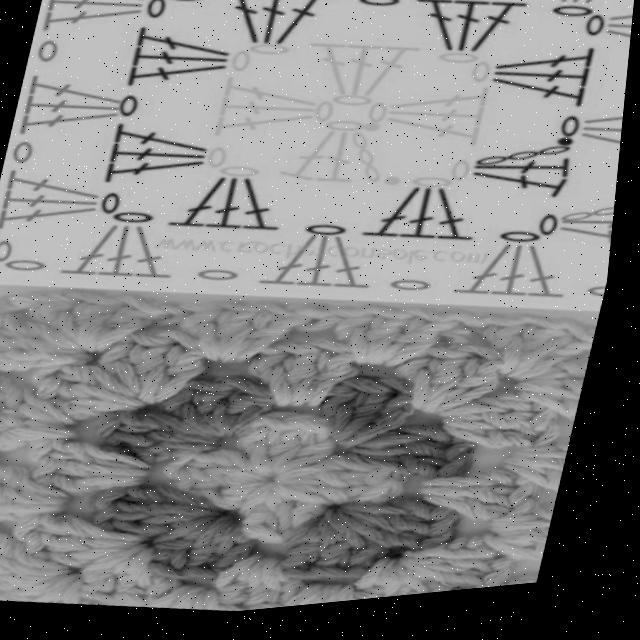ch: (446, 317, 506, 340), (301, 310, 350, 335), (161, 304, 194, 330), (0, 296, 41, 314)
dc: (347, 514, 470, 559), (348, 385, 423, 455), (242, 306, 318, 367), (441, 355, 510, 422), (0, 376, 86, 429), (160, 520, 233, 582), (525, 331, 604, 388), (335, 515, 399, 584), (103, 293, 175, 354), (45, 371, 153, 411), (22, 514, 158, 544), (353, 513, 471, 547), (0, 524, 81, 573), (394, 317, 461, 376), (59, 366, 155, 407), (93, 548, 160, 605), (40, 440, 159, 472), (342, 383, 398, 449), (164, 335, 214, 406), (277, 486, 413, 512), (134, 333, 181, 408), (517, 327, 576, 386), (358, 459, 482, 487), (103, 414, 227, 442), (0, 313, 90, 351), (101, 490, 235, 515), (73, 293, 127, 355), (413, 565, 524, 595), (167, 388, 231, 440), (431, 503, 549, 531), (30, 293, 89, 349), (278, 349, 330, 412), (429, 353, 477, 421), (193, 520, 244, 583), (290, 421, 345, 479), (316, 349, 365, 414), (175, 453, 280, 483), (450, 433, 570, 459), (103, 502, 236, 525), (0, 461, 78, 500), (39, 456, 159, 481), (448, 421, 566, 446), (488, 324, 537, 383), (265, 417, 310, 481), (367, 313, 415, 373), (218, 306, 265, 367), (232, 382, 278, 443), (216, 526, 267, 581), (227, 560, 276, 617), (199, 381, 245, 441), (102, 339, 147, 400), (429, 496, 551, 518), (365, 433, 481, 456), (249, 489, 293, 549), (417, 562, 536, 584), (0, 573, 86, 603), (44, 546, 150, 570), (0, 329, 94, 356), (141, 554, 190, 605), (294, 523, 334, 584), (335, 313, 377, 371), (109, 519, 230, 539), (258, 354, 301, 410), (357, 449, 483, 468), (283, 463, 390, 485), (351, 508, 463, 529), (323, 524, 360, 587), (422, 547, 523, 570), (445, 406, 560, 426), (33, 536, 153, 555), (243, 424, 282, 482), (280, 478, 421, 494), (122, 550, 163, 605), (430, 481, 546, 500), (407, 563, 458, 604), (187, 308, 225, 363), (0, 550, 77, 577), (49, 477, 152, 497), (118, 446, 224, 465), (250, 562, 286, 616), (403, 362, 437, 419), (111, 435, 227, 451), (0, 352, 96, 371), (363, 565, 404, 609), (272, 495, 306, 548), (526, 404, 588, 433), (511, 474, 573, 503), (39, 575, 96, 606), (272, 566, 308, 615), (0, 429, 83, 450), (0, 487, 82, 508), (517, 390, 593, 412), (332, 391, 365, 441), (173, 471, 278, 486), (57, 400, 144, 418), (522, 372, 597, 392), (391, 568, 430, 606), (497, 547, 559, 570), (0, 413, 72, 432), (502, 517, 566, 537), (177, 484, 277, 496), (0, 504, 75, 520), (158, 589, 208, 613), (0, 570, 56, 590), (301, 506, 338, 535), (183, 589, 223, 615), (76, 578, 108, 608), (524, 454, 580, 471), (514, 469, 576, 484), (300, 589, 337, 614), (493, 584, 552, 599), (500, 535, 562, 549), (319, 590, 351, 612), (211, 594, 240, 617), (342, 590, 363, 610)
